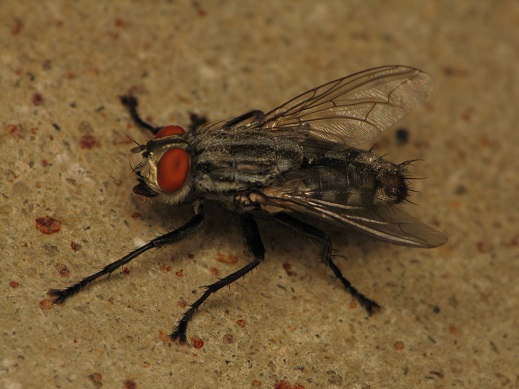fly: (44, 62, 449, 348)
